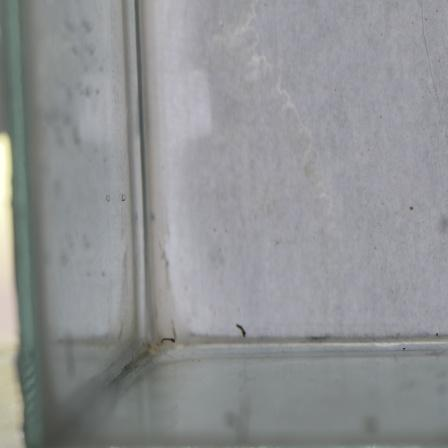Jentik-Nyamuk: (157, 332, 179, 348), (234, 319, 248, 341)
